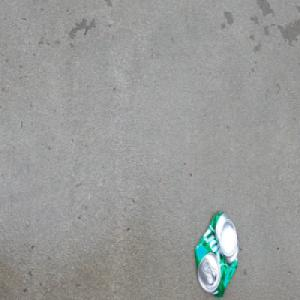SodaCan: (193, 210, 240, 299)
